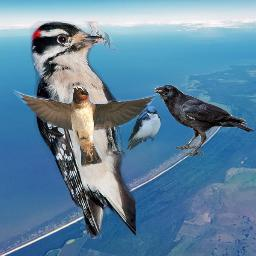Crow: (154, 84, 254, 157)
Swallow: (11, 85, 158, 167), (125, 105, 161, 150)
Woodpecker: (30, 21, 136, 239)
